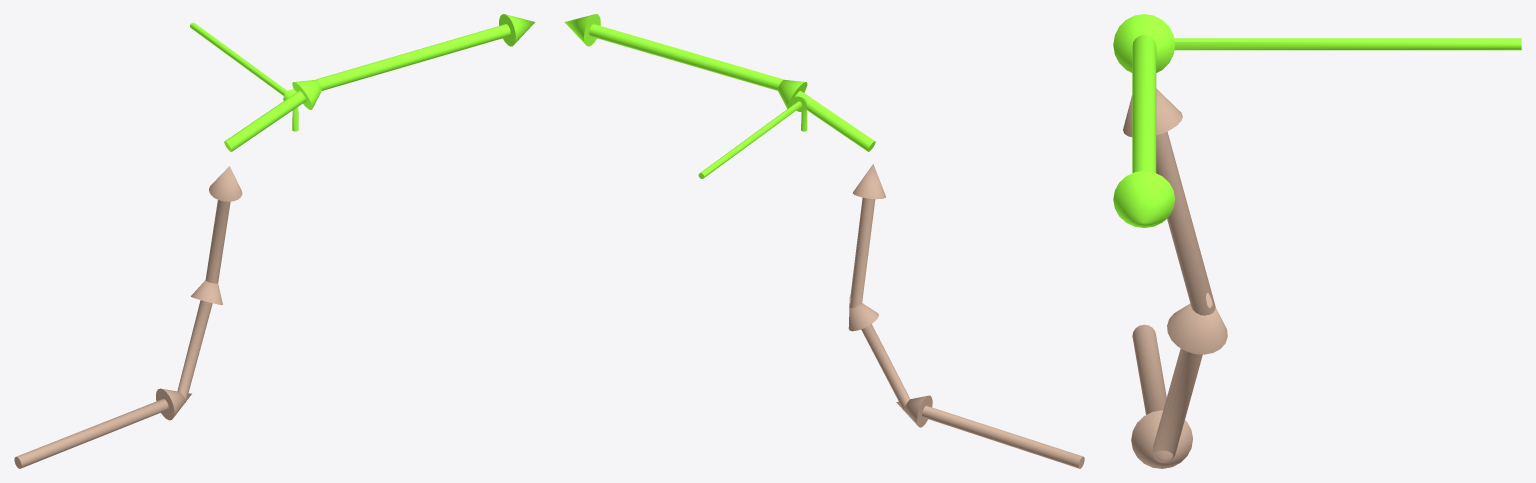
The model's file is baghouse_dust_collector_flow.glb.
3 renders of one model, left to right at view 1: azimuth 30°, elevation 25°; view 2: azimuth 150°, elevation 25°; view 3: azimuth 270°, elevation 25°, orthographic. The views are drawn at different scales.
Parts seen in each view (by area): view 1: dirty_gas, clean_gas, pulse_air; view 2: dirty_gas, clean_gas, pulse_air; view 3: dirty_gas, clean_gas, pulse_air.
Part boxes in pixels (<box>): dirty_gas: <box>14,166,242,468</box>; clean_gas: <box>224,14,534,151</box>; pulse_air: <box>190,22,298,131</box>; dirty_gas: <box>848,164,1084,468</box>; clean_gas: <box>564,14,875,151</box>; pulse_air: <box>698,96,807,178</box>; dirty_gas: <box>1123,88,1227,468</box>; clean_gas: <box>1113,14,1175,227</box>; pulse_air: <box>1174,38,1521,50</box>.
Bounding box in the file's own units: 2.76 × 1.7 × 1.03.
